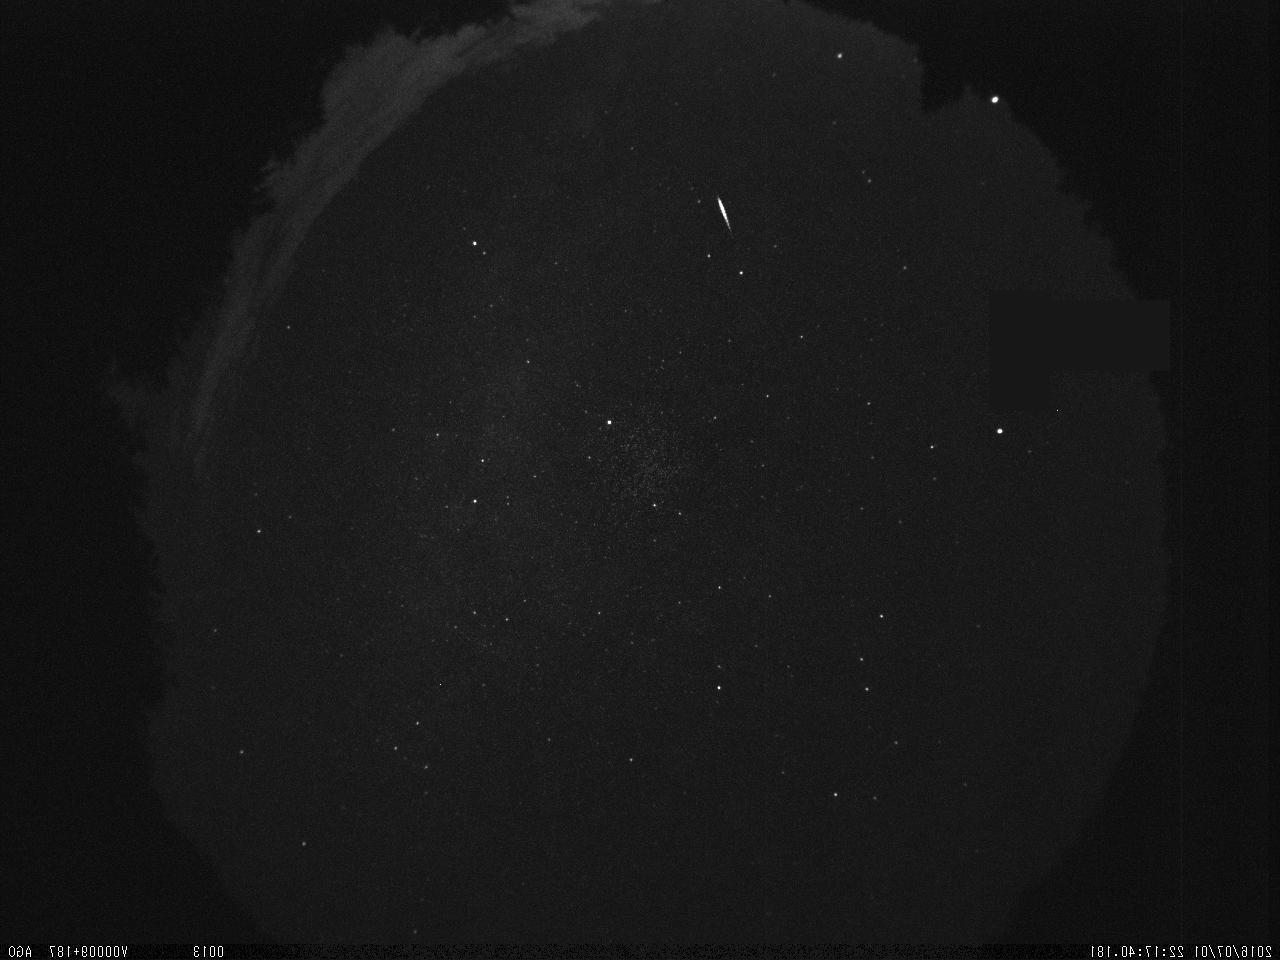meteor: (701, 188, 742, 238)
